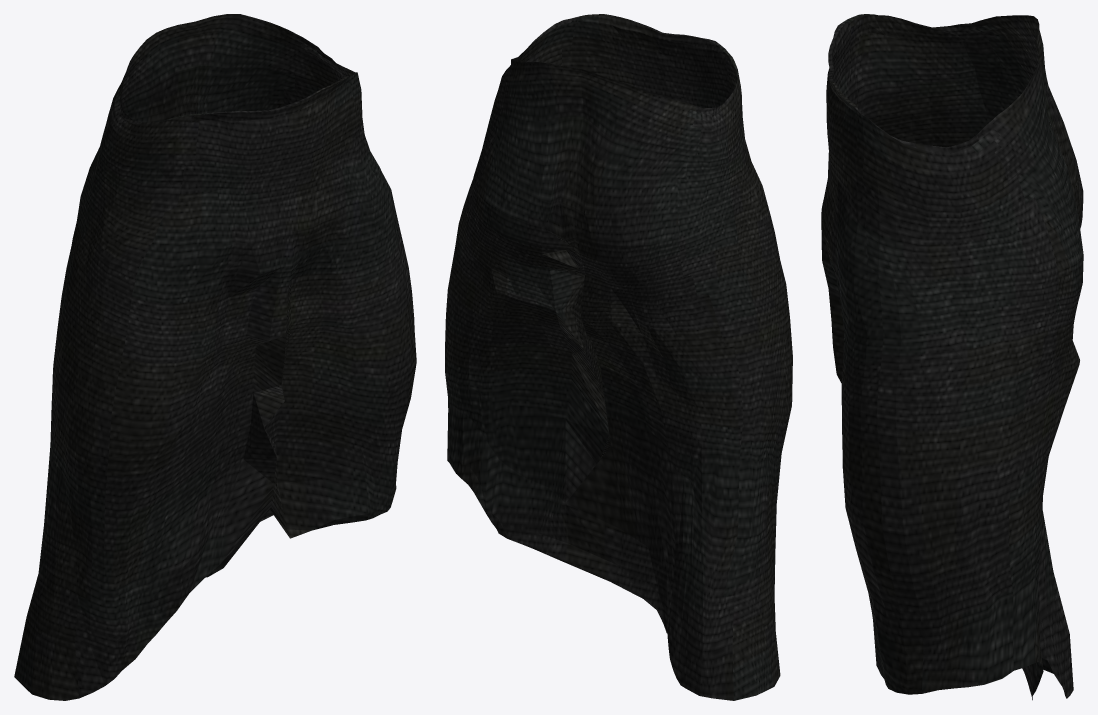
The model's file is mhw_elvs_asymmetrical_skirt.glb.
The picture shows the model from 3 angles, left to right: view 1: azimuth 30°, elevation 25°; view 2: azimuth 150°, elevation 25°; view 3: azimuth 270°, elevation 25°; orthographic projection. The views are drawn at different scales.
Visible parts, largest first — view 1: mhw_elvs_asymmetrical_skirt; view 2: mhw_elvs_asymmetrical_skirt; view 3: mhw_elvs_asymmetrical_skirt.
Part boxes in pixels (bbox=[...]): mhw_elvs_asymmetrical_skirt: bbox=[14, 14, 416, 700]; mhw_elvs_asymmetrical_skirt: bbox=[445, 14, 792, 700]; mhw_elvs_asymmetrical_skirt: bbox=[821, 14, 1083, 700].
Bounding box in the file's own units: 0.4916 × 0.8251 × 0.2656.
Materials: 1 (1 with a texture image).
